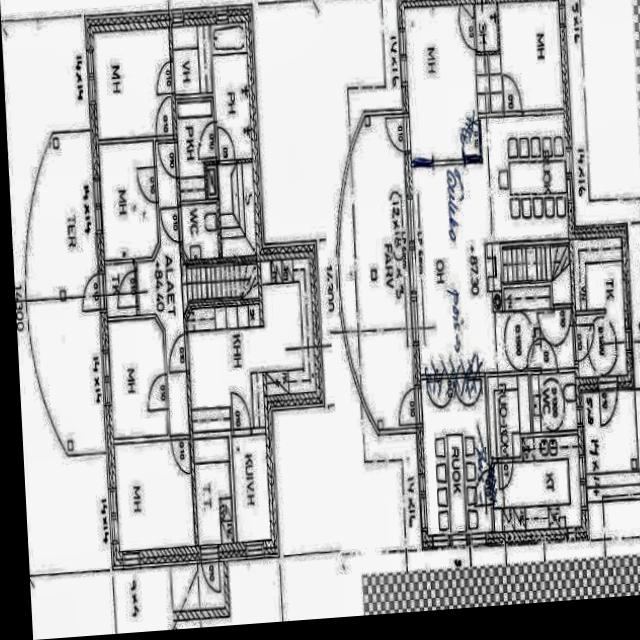room: (404, 6, 480, 162), (420, 376, 492, 536), (93, 29, 174, 140), (490, 435, 582, 532), (114, 440, 194, 551), (573, 237, 628, 379), (108, 318, 168, 439), (498, 1, 563, 112), (99, 142, 158, 260), (211, 22, 252, 161), (583, 390, 640, 488), (193, 438, 234, 546), (232, 435, 271, 542), (487, 375, 532, 458), (473, 4, 503, 114), (176, 97, 216, 178), (531, 372, 578, 432), (172, 25, 212, 95), (181, 204, 219, 260), (105, 263, 136, 317)
